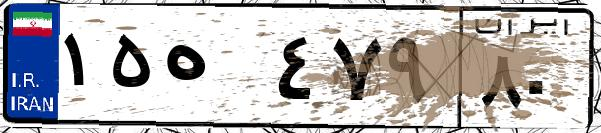0: (525, 38, 570, 115)
1: (57, 26, 110, 100)
4: (270, 28, 330, 110)
5: (110, 28, 158, 98)
7: (330, 28, 385, 110)
8: (475, 38, 525, 113)
9: (385, 28, 445, 110)
ه: (158, 20, 270, 120)
